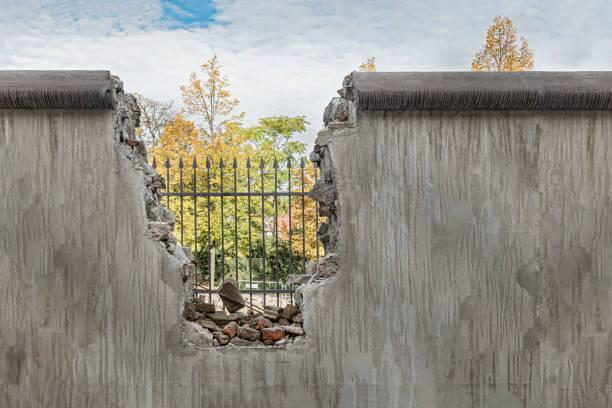Spalling: (107, 72, 357, 347)
